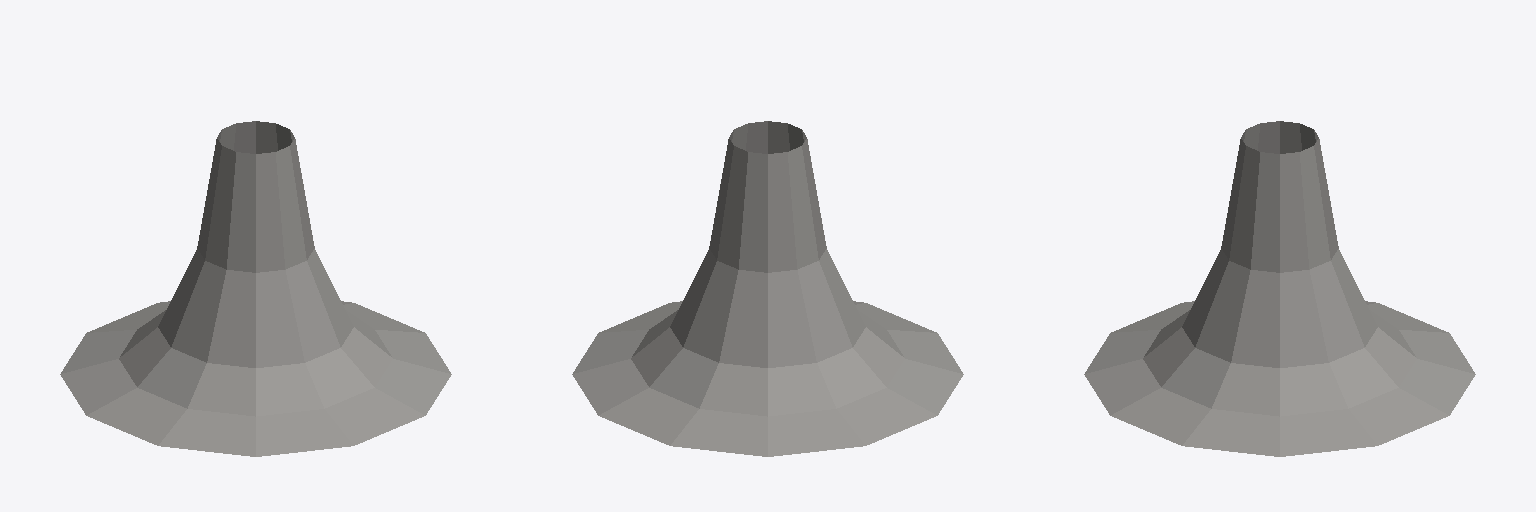
Rendered from Cave_Prop_Stalagmite_Connected_Base.obj.
3 renders of one model, left to right at view 1: azimuth 30°, elevation 25°; view 2: azimuth 150°, elevation 25°; view 3: azimuth 270°, elevation 25°, orthographic.
Parts seen in each view (by area): view 1: object1; view 2: object1; view 3: object1.
Part boxes in pixels (bbox=[...]): object1: bbox=[60, 121, 451, 456]; object1: bbox=[572, 121, 963, 456]; object1: bbox=[1084, 121, 1475, 456].
Size of the model in its own units: 1.5 by 1 by 1.5.